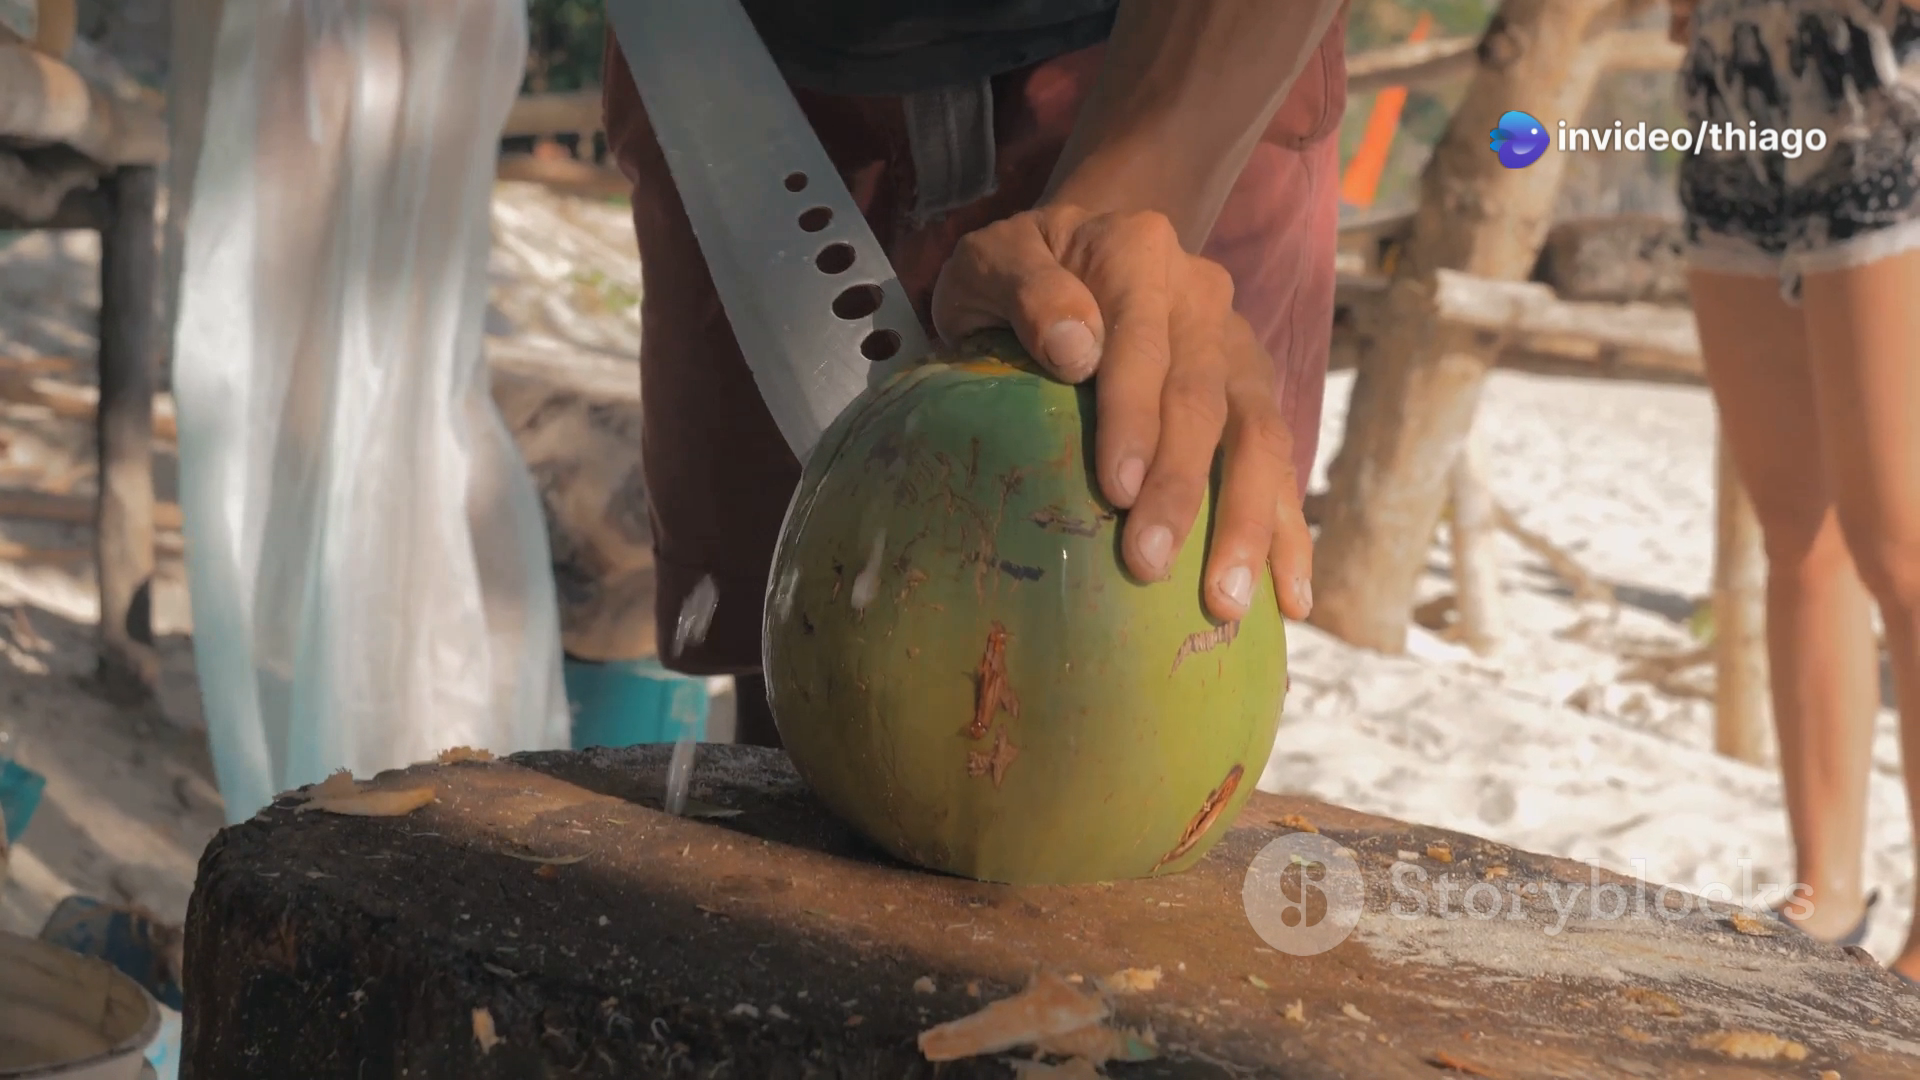cortante: (603, 0, 936, 463)
